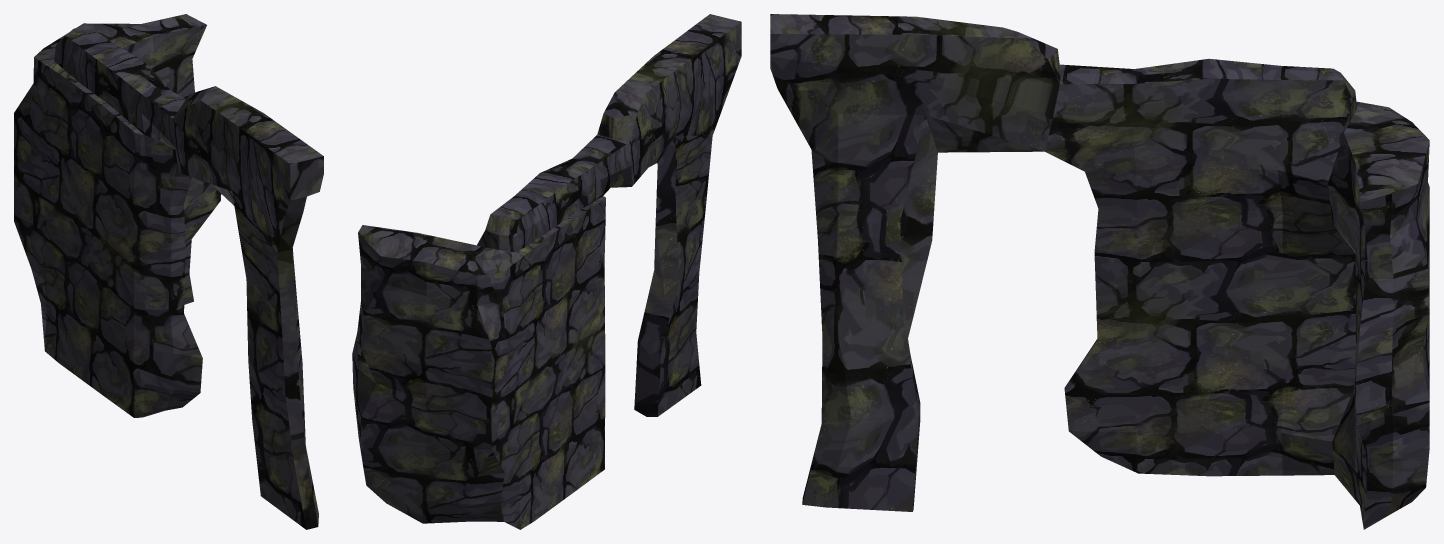
Rendered from Ruins_corner_03.fbx.
The picture shows the model from 3 angles, left to right: view 1: azimuth 30°, elevation 25°; view 2: azimuth 150°, elevation 25°; view 3: azimuth 270°, elevation 25°; orthographic projection. The views are drawn at different scales.
Visible parts, largest first — view 1: Ruins_Corner_03; view 2: Ruins_Corner_03; view 3: Ruins_Corner_03.
Part boxes in pixels (bbox=[...]): Ruins_Corner_03: bbox=[14, 14, 323, 529]; Ruins_Corner_03: bbox=[352, 14, 741, 529]; Ruins_Corner_03: bbox=[770, 14, 1429, 529].
Bounding box in the file's own units: 0.3211 × 0.6645 × 0.8448.
Materials: 1 (1 with a texture image).
